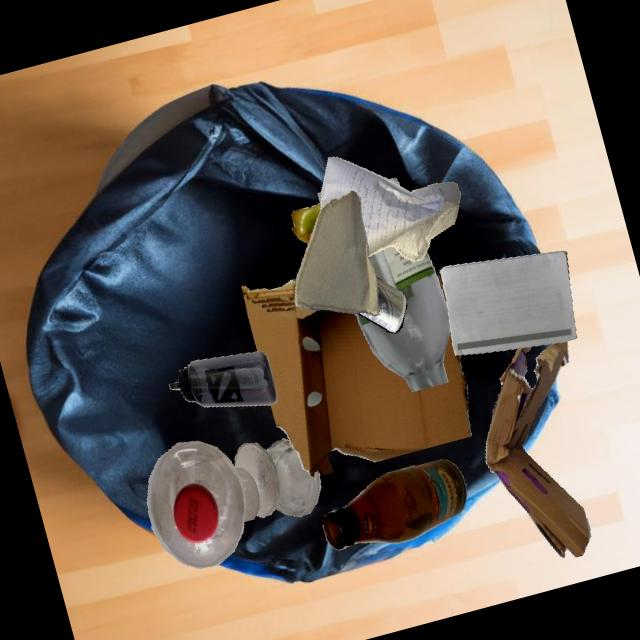biowaste: (291, 202, 320, 244)
cardboard: (240, 278, 471, 476), (485, 341, 590, 557), (294, 190, 379, 315)
glass: (355, 246, 449, 391), (322, 459, 466, 550), (320, 179, 397, 332), (234, 438, 320, 517), (234, 467, 259, 521)
metal: (358, 277, 407, 332)
paper: (320, 157, 460, 261), (440, 250, 576, 355)
plastic: (147, 440, 245, 568), (169, 350, 277, 406)
